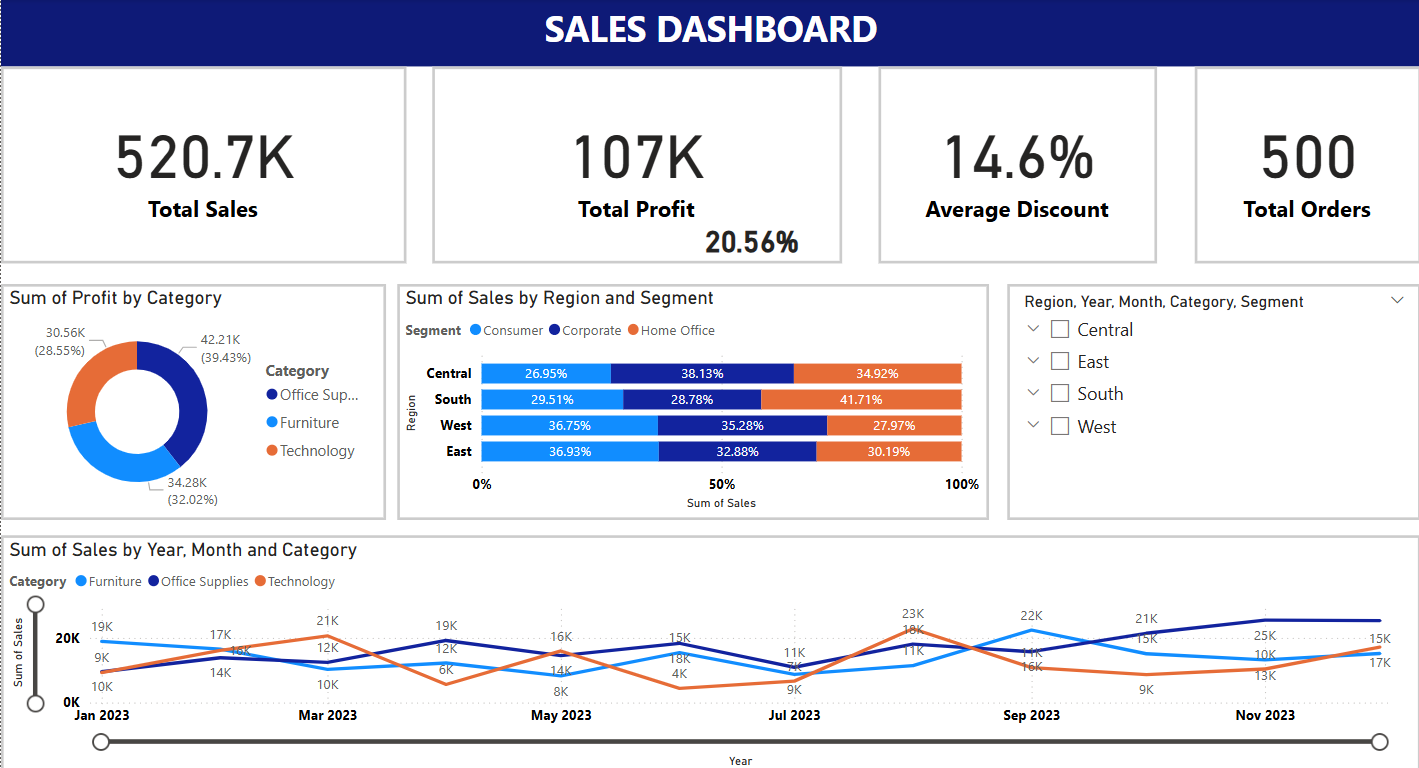

What the dashboard file says about the page in this screenshot:
{"tool":"powerbi","page":{"name":"Page 1","canvas":[1280,720],"ordinal":0},"visuals":[{"type":"textbox","box":[0,0,1280,61],"z":0},{"type":"lineChart","fields":{"Y":["Sum(Superstore_Sales_Extended.Sales)"],"Series":["Superstore_Sales_Extended.Category"],"Category":["Superstore_Sales_Extended.Order Date.Variation.Date Hierarchy.Year","Superstore_Sales_Extended.Order Date.Variation.Date Hierarchy.Month"]},"box":[0,483.9,1280,217.7],"z":1000},{"type":"hundredPercentStackedBarChart","fields":{"Category":["Superstore_Sales_Extended.Region"],"Y":["Sum(Superstore_Sales_Extended.Sales)"],"Series":["Superstore_Sales_Extended.Segment"]},"box":[357,257.5,533.7,212.7],"z":2000},{"type":"donutChart","fields":{"Category":["Superstore_Sales_Extended.Category"],"Y":["Sum(Superstore_Sales_Extended.Profit)"]},"box":[0,257.5,347.1,212.7],"z":3000},{"type":"slicer","fields":{"Values":["Superstore_Sales_Extended.Region","Superstore_Sales_Extended.Order Date.Variation.Date Hierarchy.Year","Superstore_Sales_Extended.Order Date.Variation.Date Hierarchy.Month","Superstore_Sales_Extended.Category","Superstore_Sales_Extended.Segment"]},"box":[906.8,257.5,373.2,212.7],"z":4000},{"type":"card","fields":{"Values":["Superstore_Sales_Extended.Profit Margin"]},"box":[613.3,196.5,128.1,42.3],"z":5000},{"type":"card","fields":{"Values":["Superstore_Sales_Extended.Total Profit"]},"box":[389.4,61,369.5,177.9],"z":6000},{"type":"card","fields":{"Values":["Superstore_Sales_Extended.Total Orders"]},"box":[1076,61,204,177.9],"z":7000},{"type":"card","fields":{"Values":["Superstore_Sales_Extended.Average Discount"]},"box":[791.2,61,251.3,177.9],"z":8000},{"type":"card","fields":{"Values":["Superstore_Sales_Extended.Total Sales"]},"box":[0,61,365.7,177.9],"z":9000}]}

Visuals, with their boxes on the page's 1280x720 design canvas (x1, y1, x2, y2). These are canvas units, not pixel positions in the 1419x768 screenshot, which may show the page scaled, cropped or inside an application window:
textbox: x1=0, y1=0, x2=1280, y2=61
lineChart - Sum(Superstore_Sales_Extended.Sales) x Superstore_Sales_Extended.Category: x1=0, y1=484, x2=1280, y2=702
hundredPercentStackedBarChart - Superstore_Sales_Extended.Region x Sum(Superstore_Sales_Extended.Sales): x1=357, y1=258, x2=891, y2=470
donutChart - Superstore_Sales_Extended.Category x Sum(Superstore_Sales_Extended.Profit): x1=0, y1=258, x2=347, y2=470
slicer - Superstore_Sales_Extended.Region x Superstore_Sales_Extended.Order Date.Variation.Date Hierarchy.Year: x1=907, y1=258, x2=1280, y2=470
card - Superstore_Sales_Extended.Profit Margin: x1=613, y1=196, x2=741, y2=239
card - Superstore_Sales_Extended.Total Profit: x1=389, y1=61, x2=759, y2=239
card - Superstore_Sales_Extended.Total Orders: x1=1076, y1=61, x2=1280, y2=239
card - Superstore_Sales_Extended.Average Discount: x1=791, y1=61, x2=1042, y2=239
card - Superstore_Sales_Extended.Total Sales: x1=0, y1=61, x2=366, y2=239
